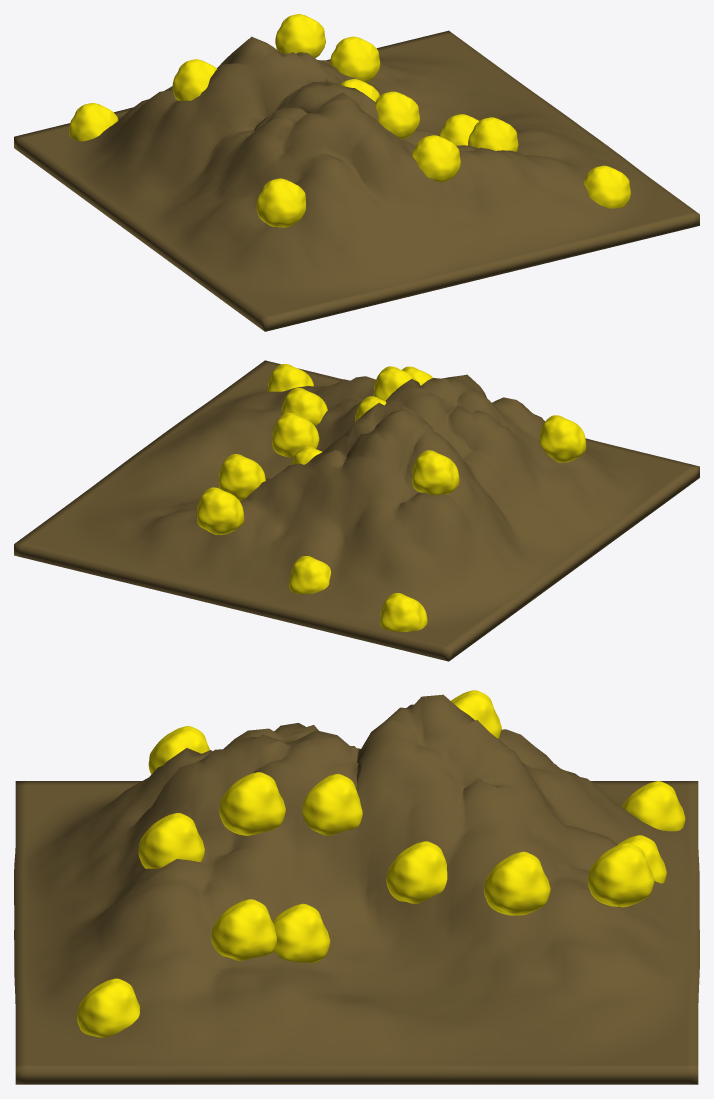
Rendered from goldmine.fbx.
3 renders of one model, top to bottom at view 1: azimuth 30°, elevation 25°; view 2: azimuth 150°, elevation 25°; view 3: azimuth 270°, elevation 25°, orthographic. The views are drawn at different scales.
Visible parts, largest first — view 1: Landscape.006, Landscape.001, Landscape.009, Landscape.012, Landscape.007, Landscape.014, Landscape.002, Landscape.010, Landscape.003, Landscape.005, Landscape.011; view 2: Landscape.006, Landscape.007, Landscape.005, Landscape.001, Landscape.011, Landscape.009, Landscape.003, Landscape.008, Landscape.010, Landscape.002, Landscape.014; view 3: Landscape.006, Landscape.009, Landscape.007, Landscape.014, Landscape.010, Landscape.013, Landscape.004, Landscape.002, Landscape.011, Landscape.012, Landscape.003, Landscape.001 (+2 smaller).
Part boxes in pixels (x1,y1,x2,y2): Landscape.006: [14, 30, 699, 331]; Landscape.001: [256, 178, 305, 227]; Landscape.009: [330, 36, 380, 82]; Landscape.012: [411, 135, 460, 181]; Landscape.007: [275, 14, 325, 58]; Landscape.014: [375, 91, 420, 139]; Landscape.002: [583, 165, 630, 208]; Landscape.010: [468, 117, 518, 151]; Landscape.003: [69, 103, 118, 141]; Landscape.005: [172, 59, 216, 101]; Landscape.011: [439, 114, 478, 145]; Landscape.006: [14, 360, 699, 661]; Landscape.007: [197, 487, 244, 534]; Landscape.005: [412, 450, 459, 495]; Landscape.001: [539, 415, 586, 462]; Landscape.011: [272, 413, 319, 457]; Landscape.009: [218, 454, 265, 500]; Landscape.003: [380, 593, 427, 631]; Landscape.008: [289, 556, 330, 594]; Landscape.010: [281, 388, 327, 425]; Landscape.002: [267, 364, 313, 391]; Landscape.014: [373, 366, 417, 400]; Landscape.006: [14, 694, 699, 1084]; Landscape.009: [484, 851, 550, 915]; Landscape.007: [588, 843, 654, 907]; Landscape.014: [219, 772, 285, 835]; Landscape.010: [211, 899, 276, 960]; Landscape.013: [386, 841, 447, 903]; Landscape.004: [302, 774, 362, 835]; Landscape.002: [77, 978, 139, 1037]; Landscape.011: [272, 903, 330, 963]; Landscape.012: [138, 813, 204, 868]; Landscape.003: [621, 781, 685, 831]; Landscape.001: [148, 726, 210, 774].
Size of the model in its own units: 402 by 132 by 402.
